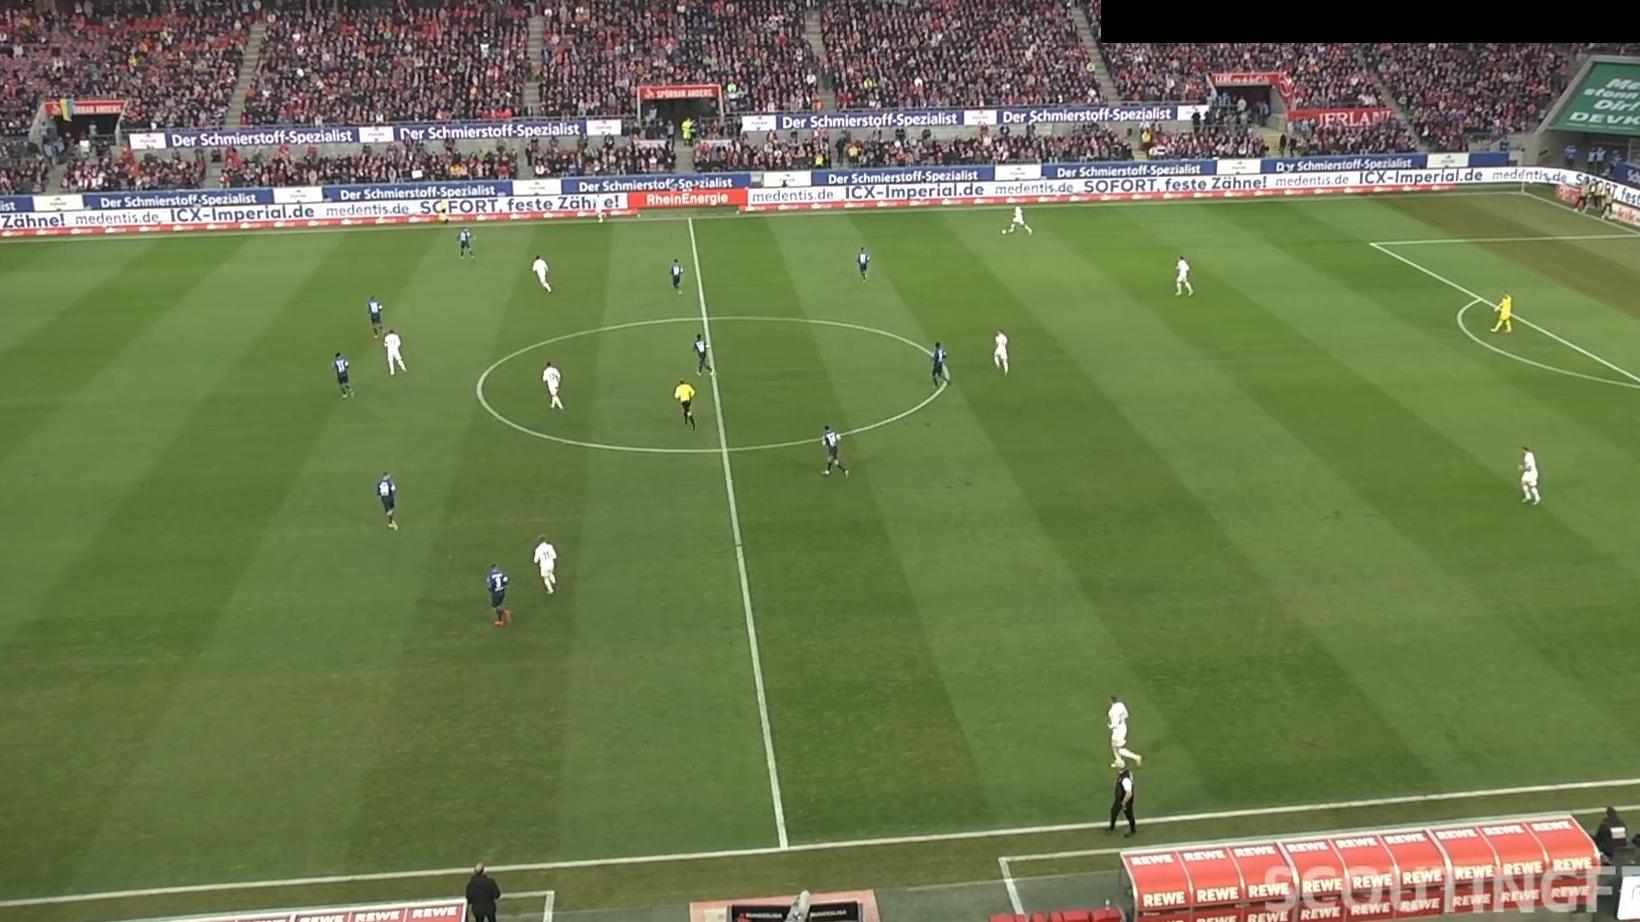ball: (998, 227, 1007, 238)
